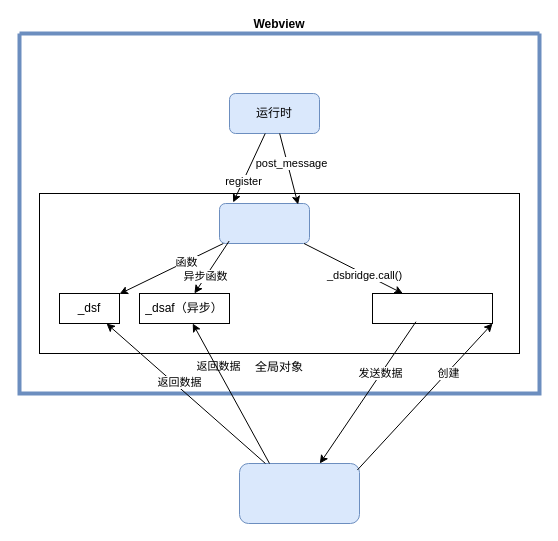
Image size: 558x541. Some labels were removed from this diagram. Here are the shapes that lost their labels. From the top down, the box of each, then its label:
(218, 202, 310, 244): dsBridge
(372, 292, 492, 324): _dsbridge（发送）
(238, 462, 360, 524): 应用
